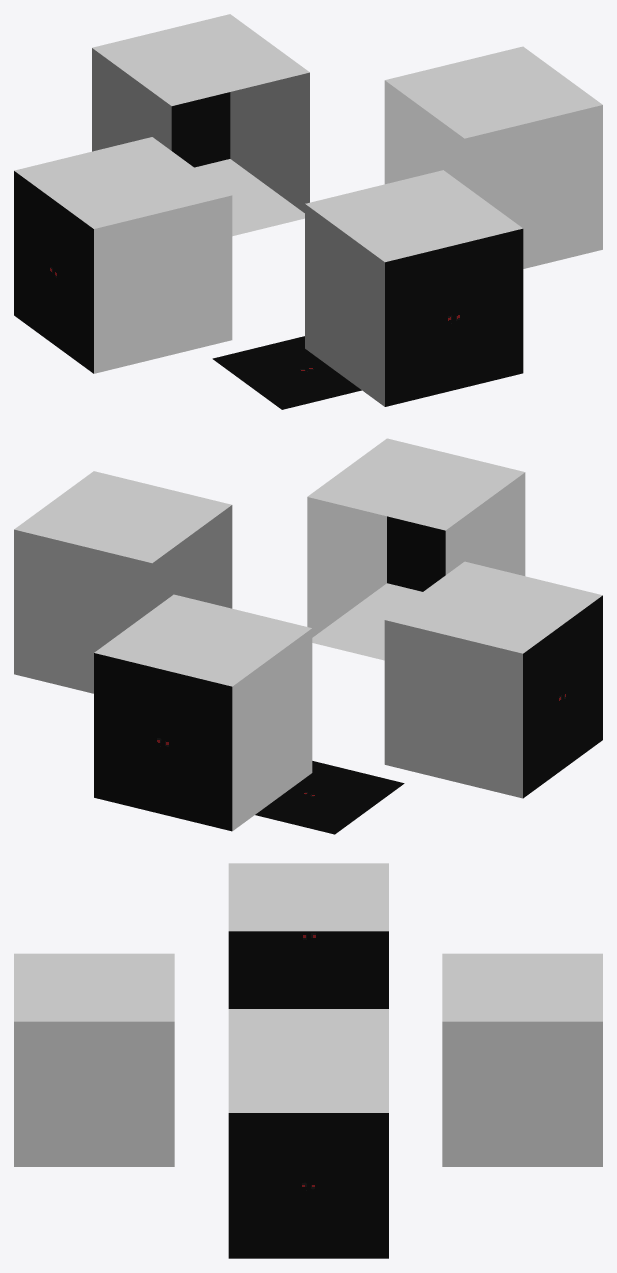
Rendered from SpookyParts_dungeonglb.glb.
The picture shows the model from 3 angles, top to bottom: view 1: azimuth 30°, elevation 25°; view 2: azimuth 150°, elevation 25°; view 3: azimuth 270°, elevation 25°; orthographic projection.
Visible parts, largest first — view 1: SpookyParts; view 2: SpookyParts; view 3: SpookyParts.
Part boxes in pixels (x1,y1,x2,y2): SpookyParts: [14, 14, 602, 409]; SpookyParts: [14, 438, 602, 834]; SpookyParts: [14, 863, 602, 1258].
Bounding box in the file's own units: 95.74 × 41.61 × 95.46.
Materials: 2 (1 with a texture image).
